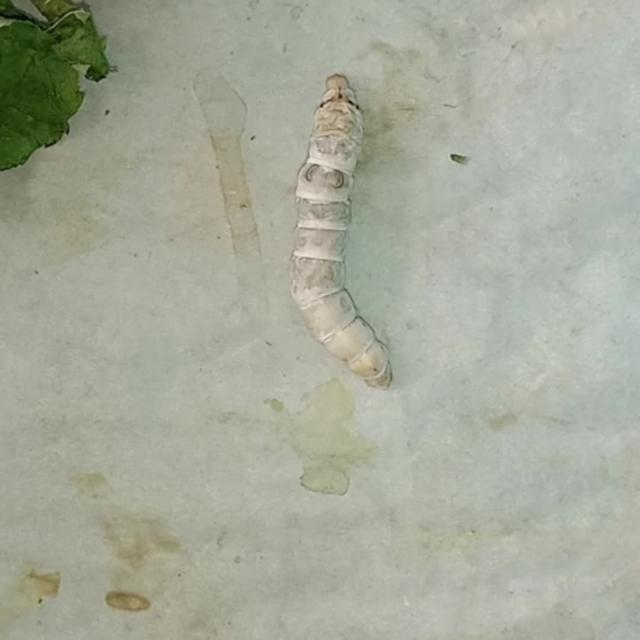Grasserie: (270, 39, 451, 412)
